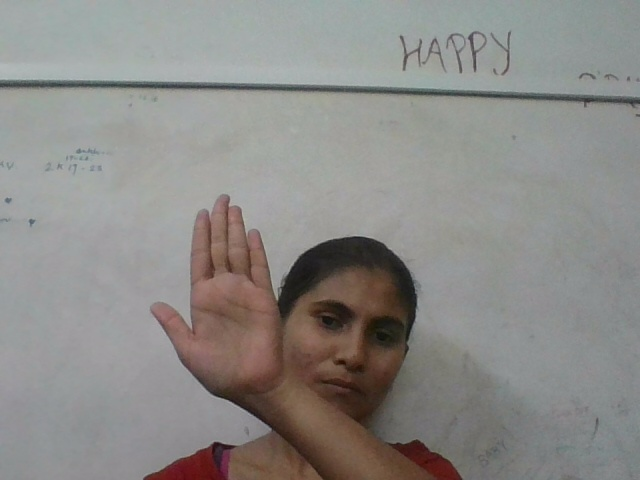Hello: (150, 192, 290, 401)
